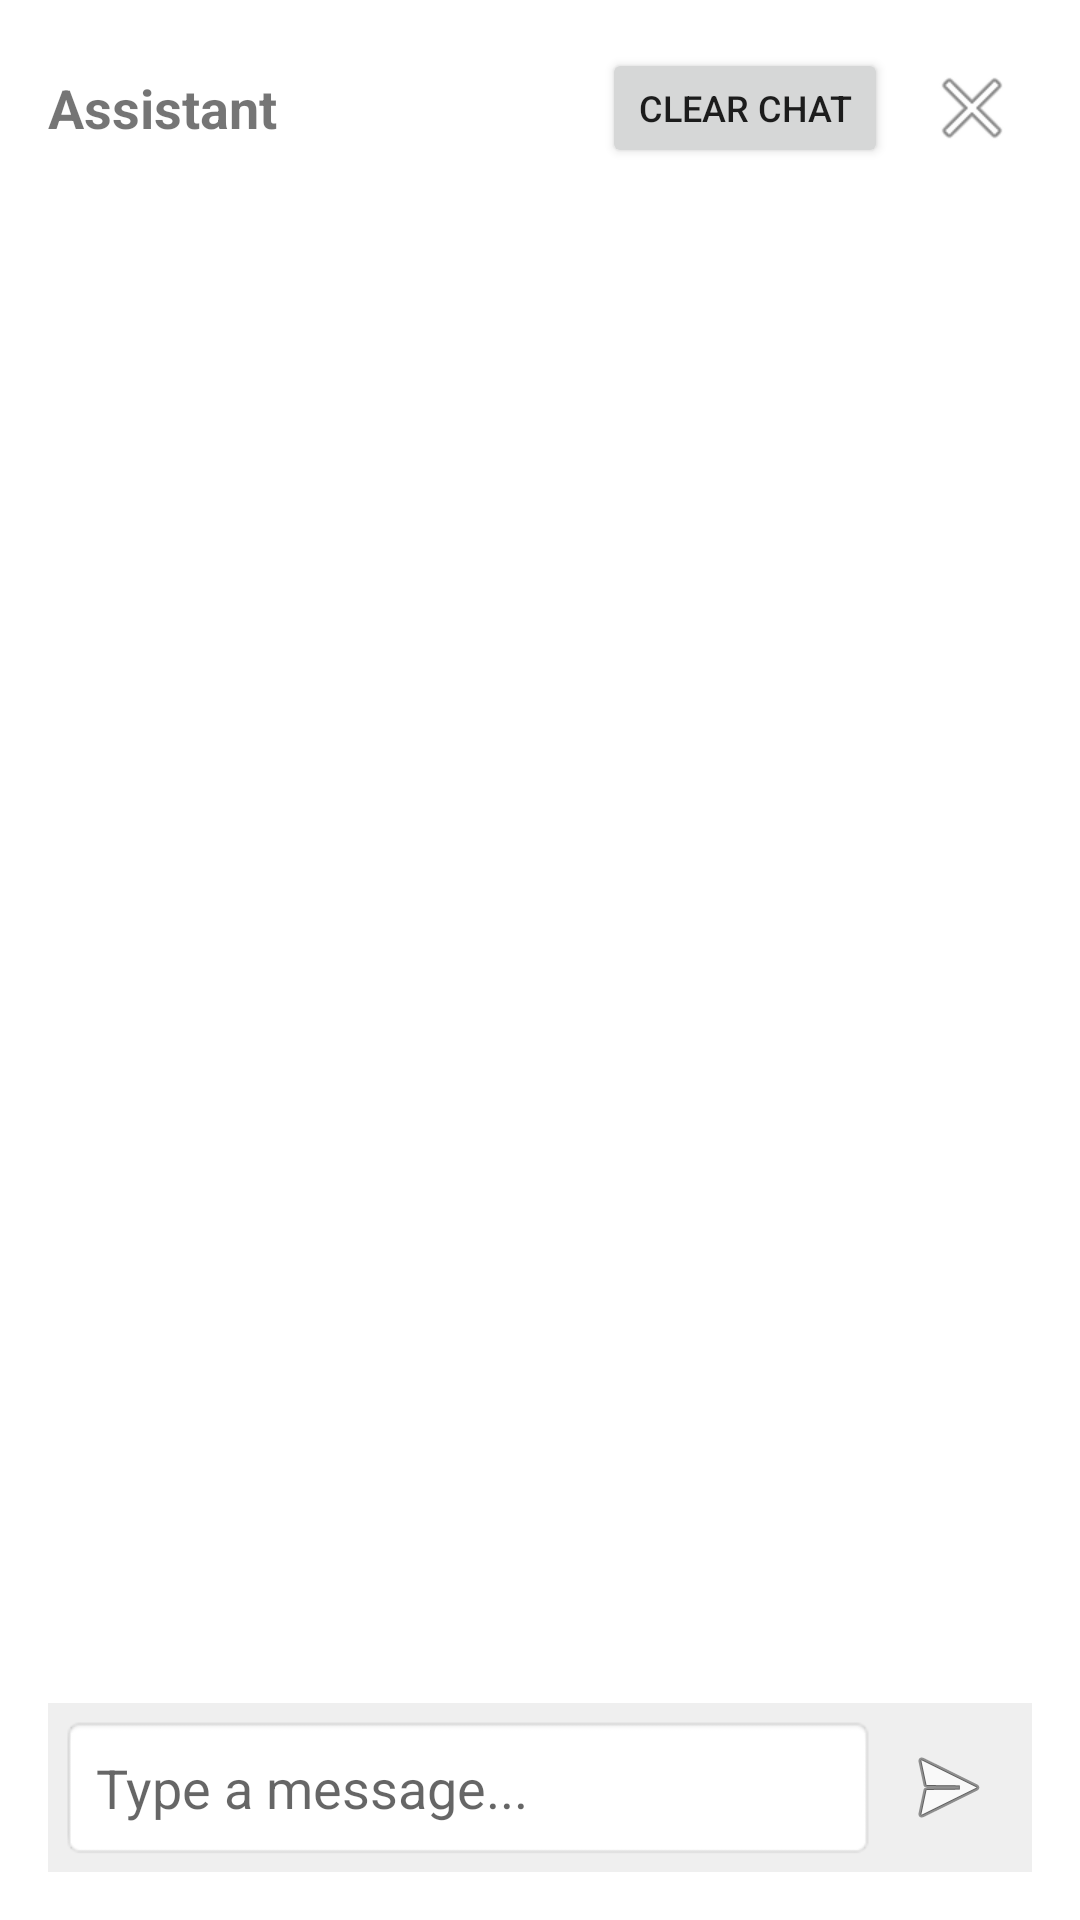

Named icons in this screenshot (1080px×1920px) and their centers, [x,y]:
close clear cancel: [972,108]
send: [949,1787]
